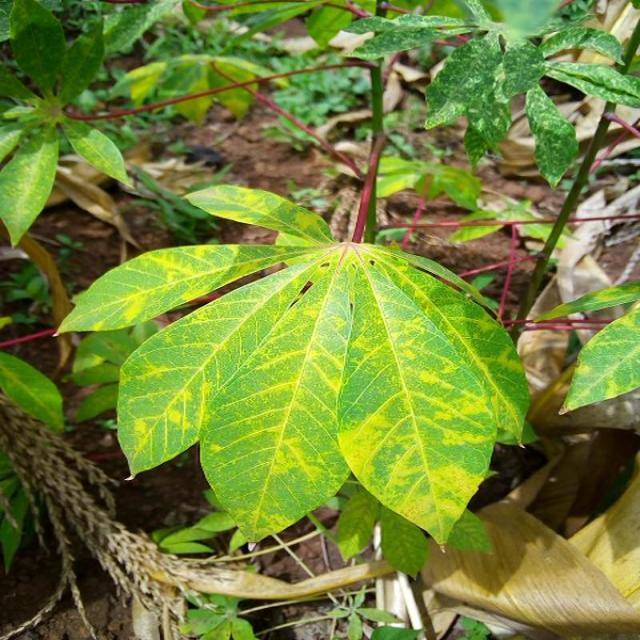cassava leaf: (54, 180, 536, 561)
